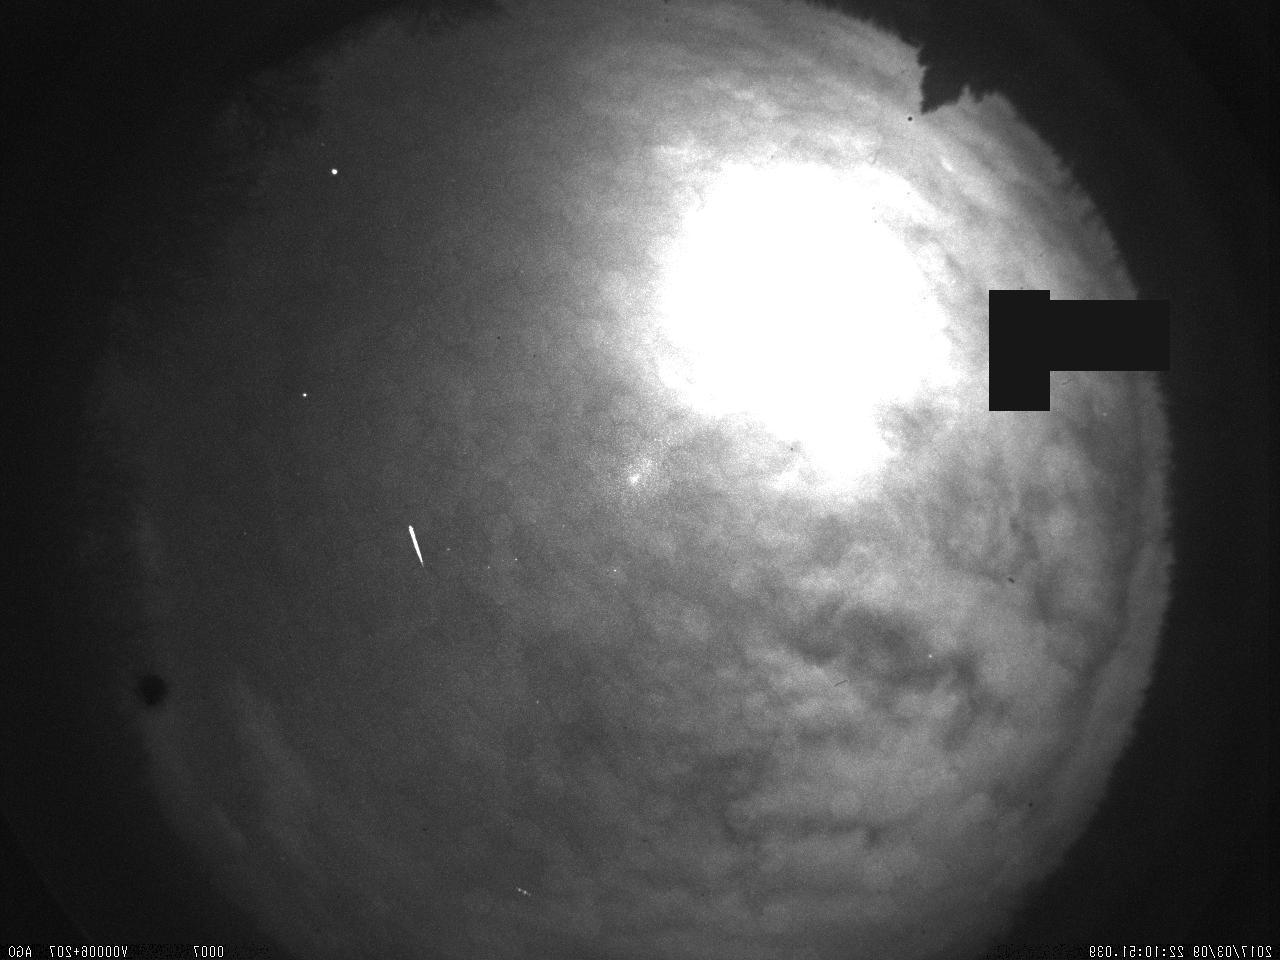meteor: (382, 503, 451, 582)
